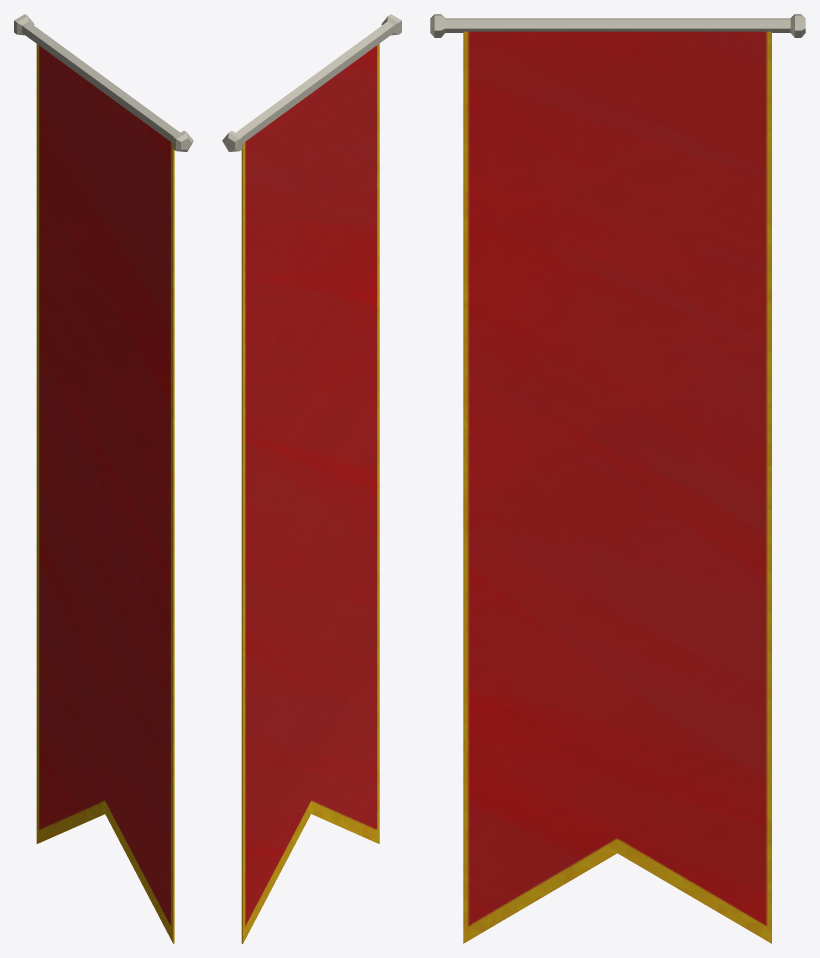
The model's file is BannerNostandProper.fbx.
3 renders of one model, left to right at view 1: azimuth 30°, elevation 25°; view 2: azimuth 150°, elevation 25°; view 3: azimuth 270°, elevation 25°, orthographic. The views are drawn at different scales.
Visible parts, largest first — view 1: Banner2; view 2: Banner2; view 3: Banner2.
Boxes of the visible parts, box(x1,y1,x2,y2) form: Banner2: box(14, 14, 193, 943); Banner2: box(222, 14, 401, 943); Banner2: box(430, 14, 805, 943).
Size of the model in its own units: 7.87 by 347 by 127.
